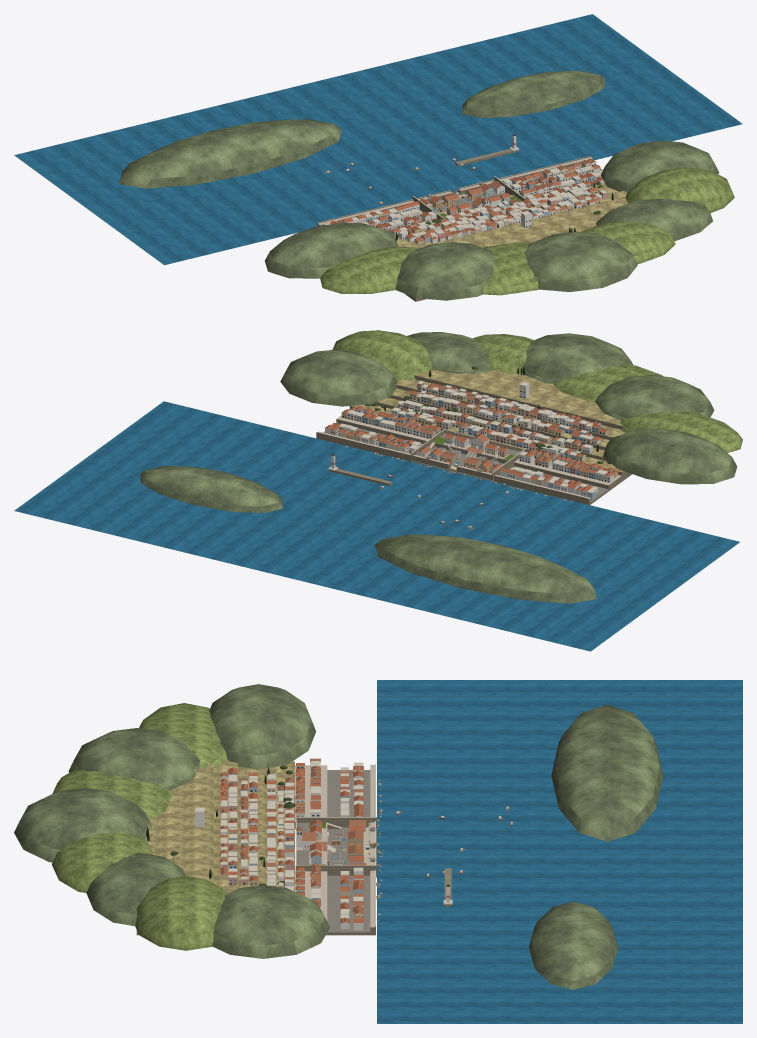
The model's file is tidewall-structure.glb.
3 renders of one model, top to bottom at view 1: azimuth 30°, elevation 25°; view 2: azimuth 150°, elevation 25°; view 3: azimuth 270°, elevation 25°, orthographic. The views are drawn at different scales.
Parts seen in each view (by area): view 1: backdrop.sea, backdrop.hills, backdrop.houses, backdrop.ground, dressing.roofs, backdrop.harbour; view 2: backdrop.sea, backdrop.hills, backdrop.houses, backdrop.ground, dressing.roofs, backdrop.harbour; view 3: backdrop.sea, backdrop.hills, backdrop.ground, backdrop.houses, dressing.roofs.
Part boxes in pixels (x1,y1,x2,y2): backdrop.sea: (14, 14, 742, 265); backdrop.hills: (119, 71, 734, 300); backdrop.houses: (324, 158, 607, 244); backdrop.ground: (317, 156, 627, 301); dressing.roofs: (419, 180, 510, 211); backdrop.harbour: (324, 134, 519, 204); backdrop.sea: (14, 401, 739, 651); backdrop.hills: (140, 330, 742, 603); backdrop.houses: (325, 380, 617, 499); backdrop.ground: (316, 370, 632, 504); dressing.roofs: (417, 433, 507, 470); backdrop.harbour: (328, 454, 508, 529); backdrop.sea: (377, 680, 742, 1023); backdrop.hills: (14, 684, 663, 989); backdrop.ground: (136, 760, 375, 935); backdrop.houses: (195, 758, 363, 930); dressing.roofs: (302, 819, 366, 865).
Size of the model in its own units: 720 by 51.54 by 645.
56 materials, 56 textured.
